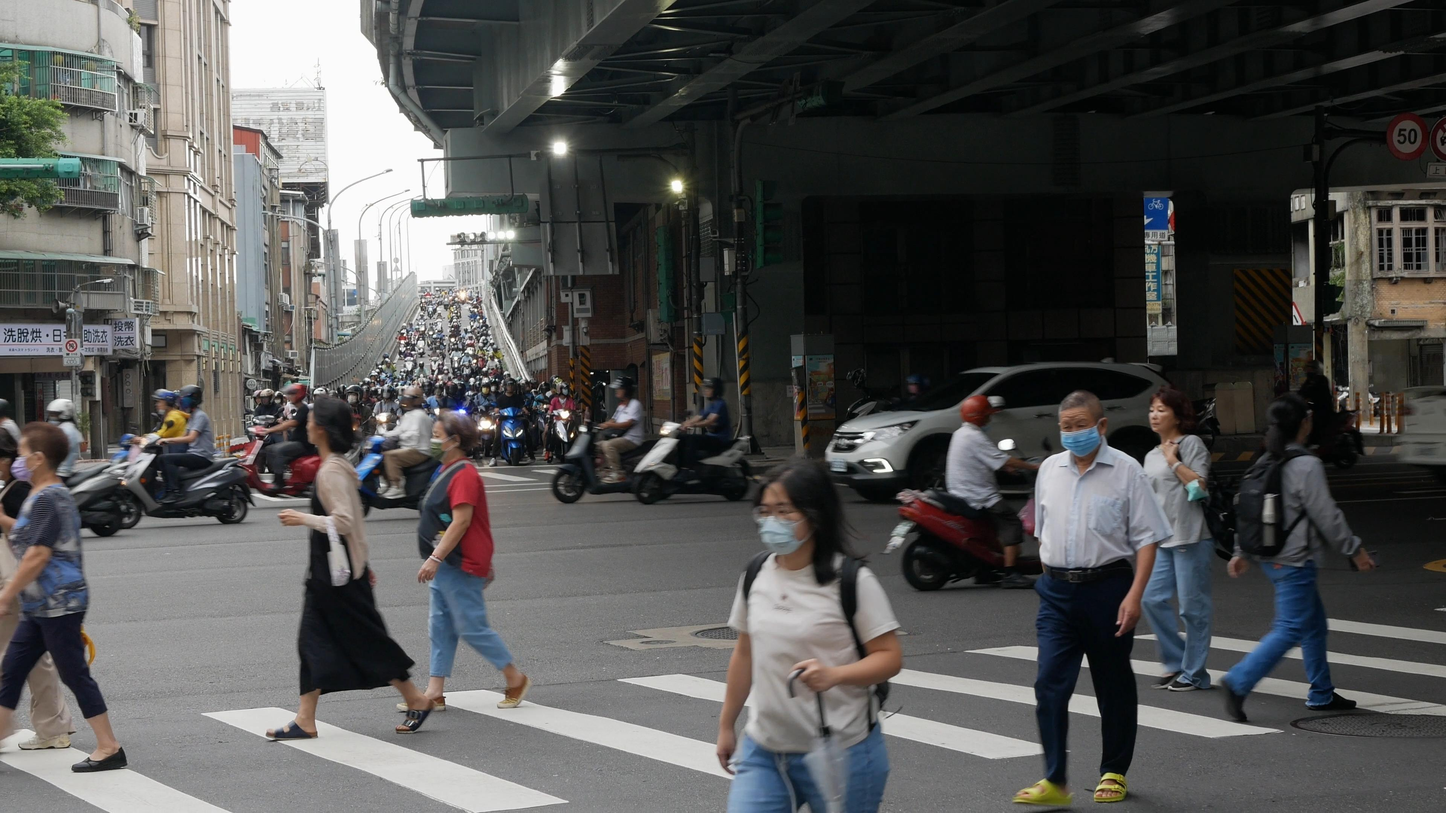driver: (880, 394, 1053, 588), (118, 384, 257, 528), (0, 398, 136, 537), (632, 376, 753, 504), (552, 376, 660, 503), (354, 386, 443, 518), (242, 382, 320, 500), (489, 377, 536, 467), (544, 382, 585, 464)
helmet: (961, 394, 1002, 432), (45, 398, 77, 426), (175, 384, 204, 411), (151, 388, 178, 416), (609, 376, 638, 401), (280, 383, 309, 405), (699, 376, 724, 401), (400, 387, 424, 410), (344, 385, 363, 404), (260, 389, 275, 407), (381, 384, 395, 400), (503, 377, 517, 393), (445, 381, 458, 398), (556, 382, 570, 396), (252, 390, 262, 405), (434, 383, 444, 396)
no-helmet: (751, 454, 854, 587), (1057, 389, 1108, 458), (1264, 391, 1313, 462), (11, 422, 69, 481), (306, 393, 353, 454), (429, 408, 479, 462), (1147, 384, 1196, 435)
